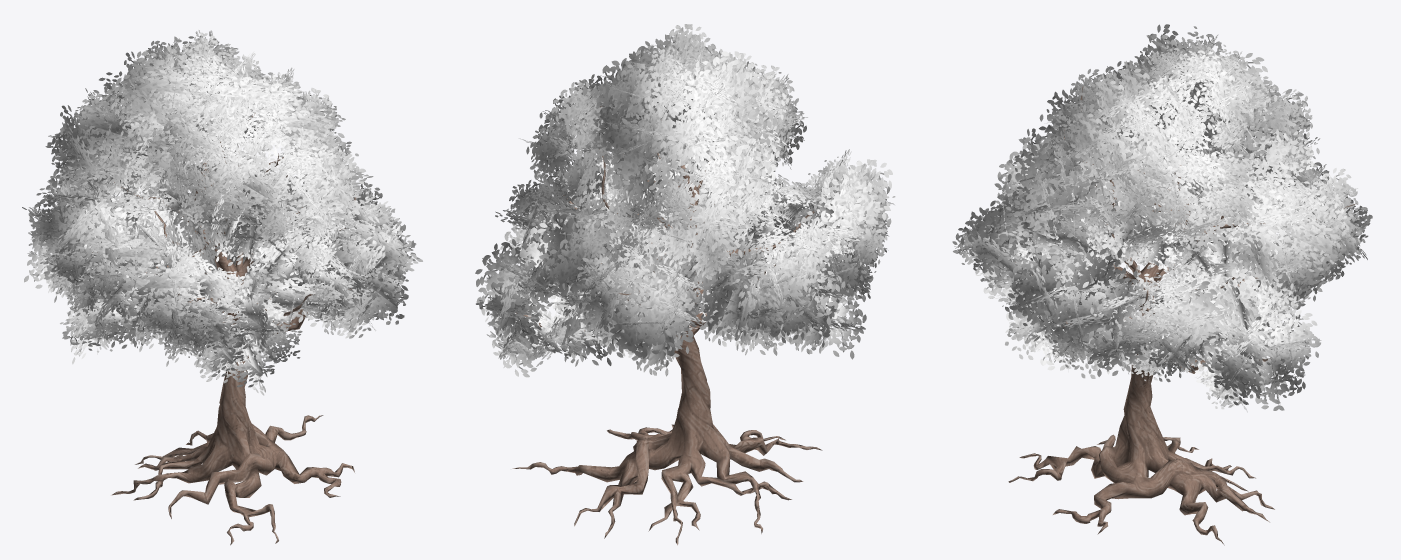
Rendered from OakTree_01.fbx.
3 renders of one model, left to right at view 1: azimuth 30°, elevation 25°; view 2: azimuth 150°, elevation 25°; view 3: azimuth 270°, elevation 25°, orthographic. The views are drawn at different scales.
Visible parts, largest first — view 1: OakTree01_LOD0; view 2: OakTree01_LOD0; view 3: OakTree01_LOD0.
Boxes of the visible parts, x1,y1,x2,y2 form: OakTree01_LOD0: [22, 30, 422, 545]; OakTree01_LOD0: [475, 24, 895, 545]; OakTree01_LOD0: [952, 24, 1372, 545].
Size of the model in its own units: 832 by 982 by 856.
